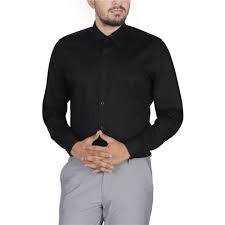F_dress pants: (54, 148, 155, 225)
F_shirt: (38, 22, 188, 156)
